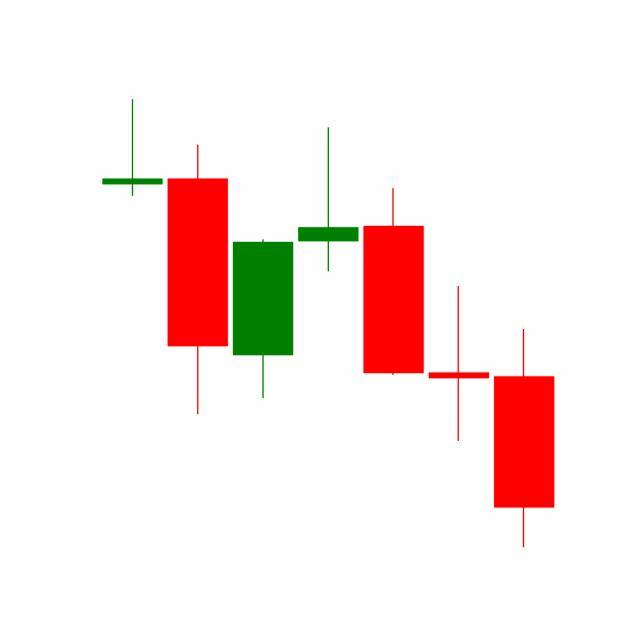Hikkake Pattern: (229, 123, 555, 548)
